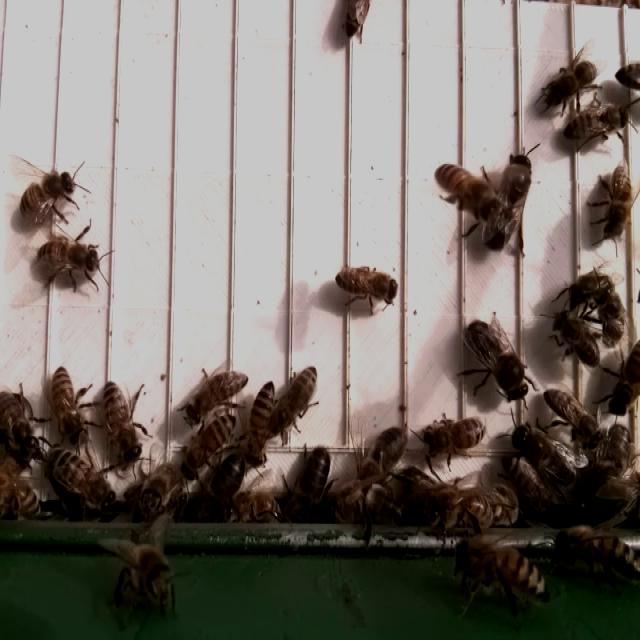Drone: (461, 317, 531, 404), (482, 148, 534, 255), (286, 442, 334, 528), (354, 422, 410, 494)
Worker: (179, 367, 249, 428), (99, 379, 145, 471), (330, 260, 403, 314), (31, 234, 104, 287), (431, 164, 500, 220), (16, 166, 78, 228), (541, 385, 602, 447), (177, 412, 232, 480), (273, 362, 320, 438), (48, 362, 89, 448), (561, 104, 631, 153), (595, 160, 635, 244), (540, 55, 599, 111), (242, 381, 278, 472), (548, 315, 603, 372), (420, 414, 487, 458)
